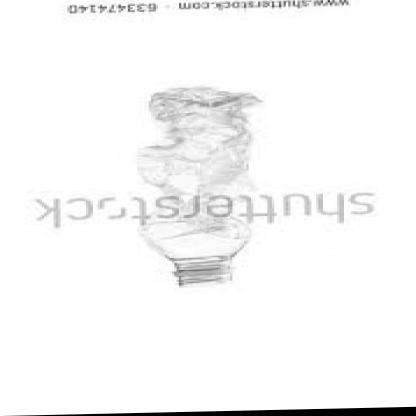Plastic: (127, 77, 262, 291)
